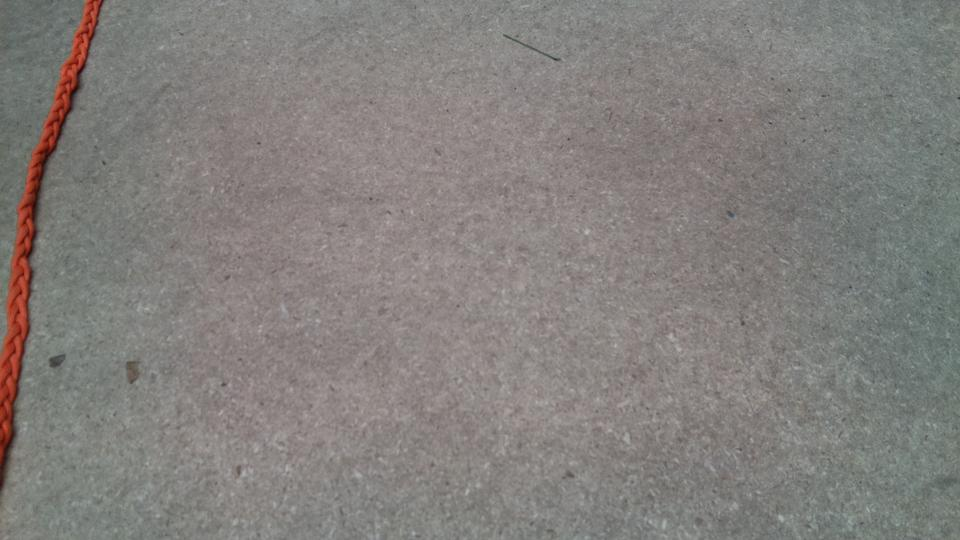rope: (1, 1, 104, 437)
